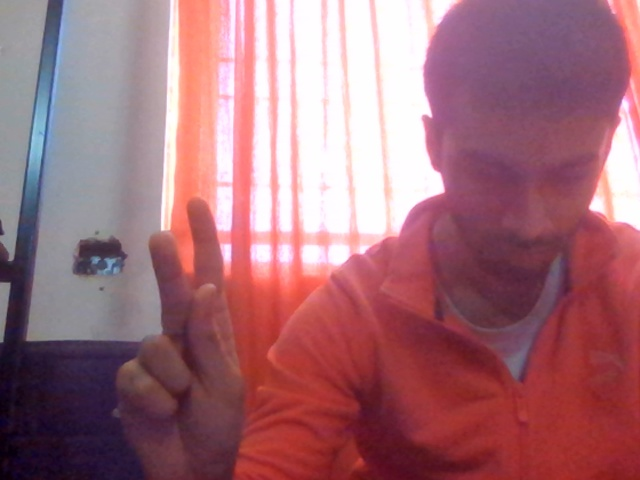K: (103, 195, 308, 480)
